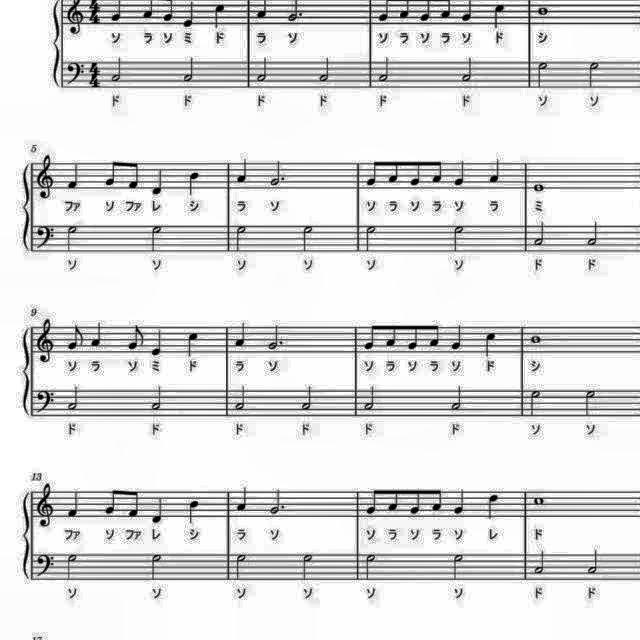Bass-clef: (34, 221, 58, 251), (64, 58, 88, 88), (33, 382, 56, 413), (34, 552, 58, 580)
Eighth-note: (125, 323, 148, 353), (64, 322, 85, 353), (126, 158, 144, 192), (126, 488, 144, 522), (362, 154, 380, 188), (101, 484, 119, 516), (361, 322, 379, 354), (100, 156, 118, 188), (362, 486, 380, 518), (384, 321, 401, 352), (408, 484, 424, 516), (406, 322, 422, 354), (408, 156, 424, 188), (386, 156, 402, 186), (386, 483, 402, 512), (428, 486, 444, 514), (426, 320, 442, 348), (428, 158, 444, 186)
Full-note: (533, 2, 551, 18), (530, 492, 546, 508), (530, 179, 546, 193), (527, 334, 545, 346)
Half-dot: (268, 158, 288, 190), (268, 486, 288, 518), (266, 324, 286, 354)
Half-note: (584, 218, 604, 250), (146, 551, 166, 583), (532, 58, 552, 90), (584, 546, 604, 578), (460, 54, 480, 86), (146, 223, 166, 255), (446, 384, 466, 416), (530, 547, 550, 577), (148, 381, 168, 411), (450, 222, 468, 254), (318, 54, 336, 86), (64, 222, 82, 254), (526, 388, 544, 420), (586, 58, 604, 90), (447, 552, 465, 584), (582, 386, 600, 418), (233, 222, 250, 254), (298, 550, 314, 584), (233, 550, 250, 582), (377, 55, 395, 85), (233, 382, 251, 412), (531, 219, 549, 249), (361, 382, 379, 412), (297, 385, 315, 415), (253, 55, 271, 85), (180, 55, 198, 85), (298, 222, 314, 254), (64, 550, 80, 582), (362, 550, 378, 582), (362, 222, 378, 254), (109, 55, 125, 85), (66, 383, 82, 413)
Quarter-note: (65, 488, 83, 522), (234, 154, 252, 186), (151, 166, 169, 198), (486, 154, 504, 186), (485, 492, 503, 524), (151, 494, 169, 526), (65, 160, 83, 192), (148, 327, 166, 359), (448, 321, 466, 352), (89, 321, 107, 351), (183, 329, 201, 359), (234, 483, 252, 513), (482, 329, 500, 359), (452, 484, 468, 516), (452, 158, 468, 190), (233, 321, 250, 351), (184, 168, 202, 196), (183, 498, 200, 526)
Treble-clef: (34, 315, 58, 365), (33, 480, 56, 530), (33, 151, 56, 201)
